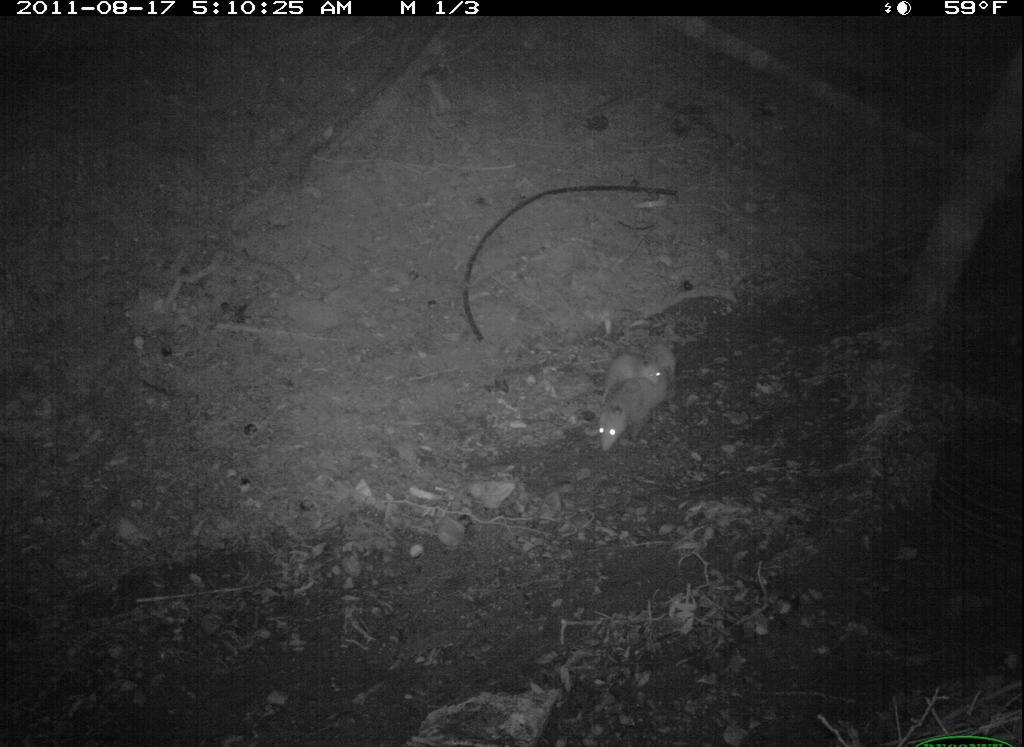opossum: (592, 333, 692, 460)
